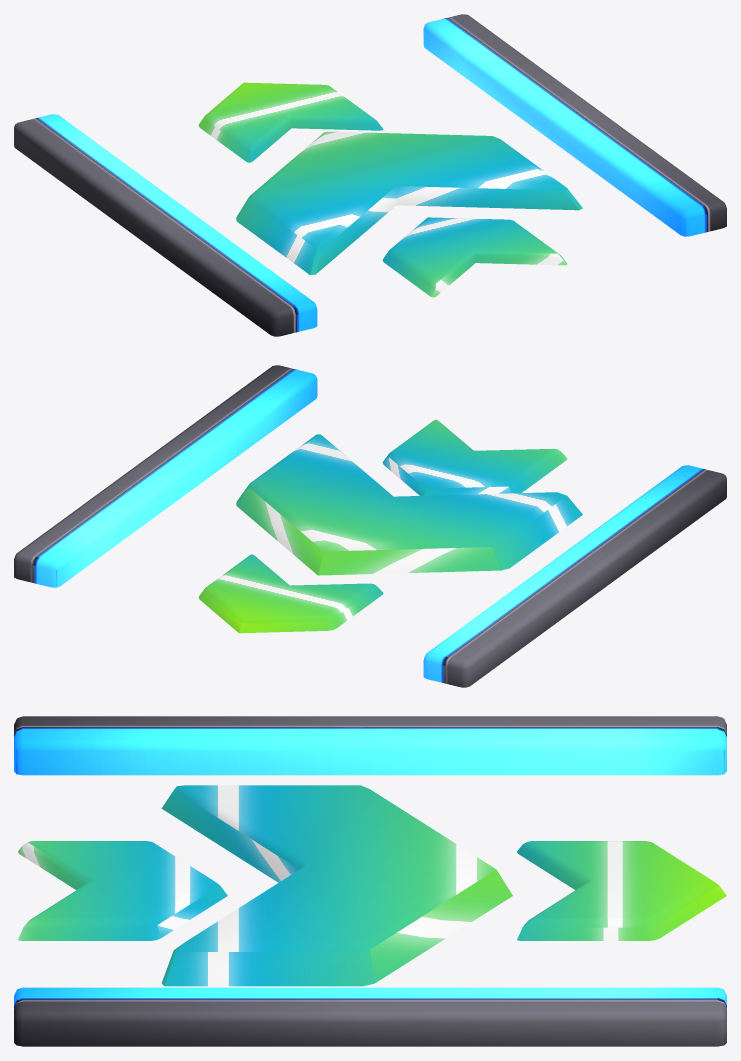
The model's file is static.Speed-Booster-01.glb.
3 renders of one model, top to bottom at view 1: azimuth 30°, elevation 25°; view 2: azimuth 150°, elevation 25°; view 3: azimuth 270°, elevation 25°, orthographic. The views are drawn at different scales.
Parts seen in each view (by area): view 1: static.Speed Booster 01; view 2: static.Speed Booster 01; view 3: static.Speed Booster 01.
Boxes of the visible parts, x1=… form: static.Speed Booster 01: x1=14, y1=14, x2=726, y2=336; static.Speed Booster 01: x1=14, y1=365, x2=726, y2=687; static.Speed Booster 01: x1=14, y1=716, x2=726, y2=1046.
Bounding box in the file's own units: 1.33 × 0.0667 × 1.33.
2 materials, 2 textured.
